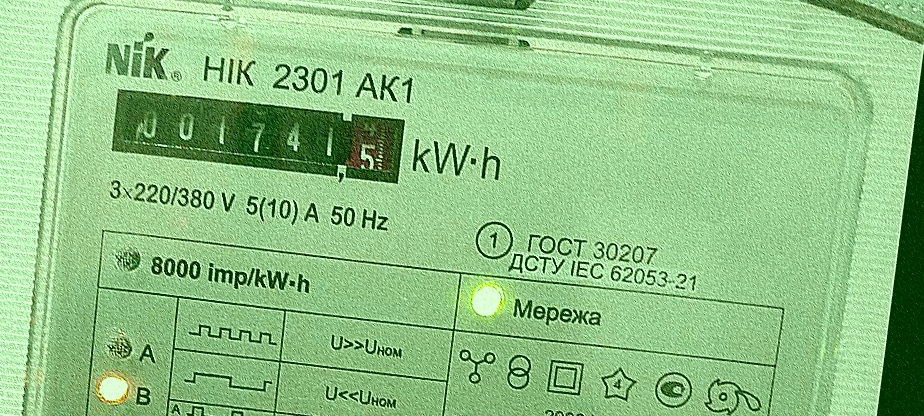0: (173, 108, 196, 144), (137, 106, 160, 141)
1: (209, 110, 230, 148), (318, 123, 338, 160)
4: (281, 117, 305, 155), (359, 119, 377, 139)
5: (354, 139, 377, 172)
7: (244, 118, 266, 155)
screen: (102, 76, 412, 195)
